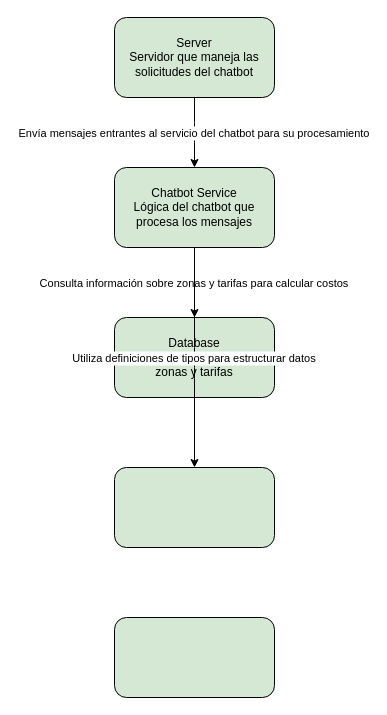
This 387x715 diagram has some shape labels left out. Here are the shapes that lost their labels. From the top down, the centre of each, then its label:
At pixel 194 507: "Types Definiciones de tipos utilizados en el proyecto".
At pixel 194 657: "Postman Collection Definiciones de las API utilizadas por el chatbot".
